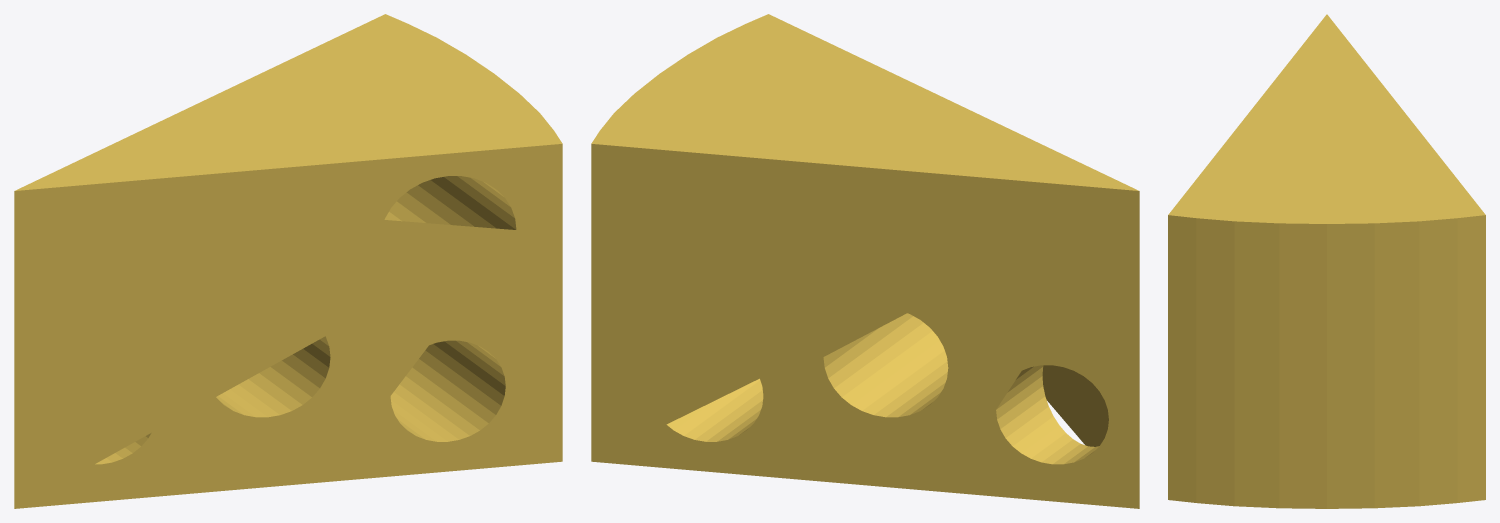
File: keju.fbx
3 views of the same model, side by side, from view 1: azimuth 30°, elevation 25°; view 2: azimuth 150°, elevation 25°; view 3: azimuth 270°, elevation 25° (orthographic). The views are drawn at different scales.
Parts seen in each view (by area): view 1: Cube; view 2: Cube; view 3: Cube.
Part boxes in pixels (x1,y1,x2,y2): Cube: (14, 14, 562, 508); Cube: (591, 14, 1139, 508); Cube: (1168, 14, 1485, 508).
Size of the model in its own units: 254 by 161 by 162.
